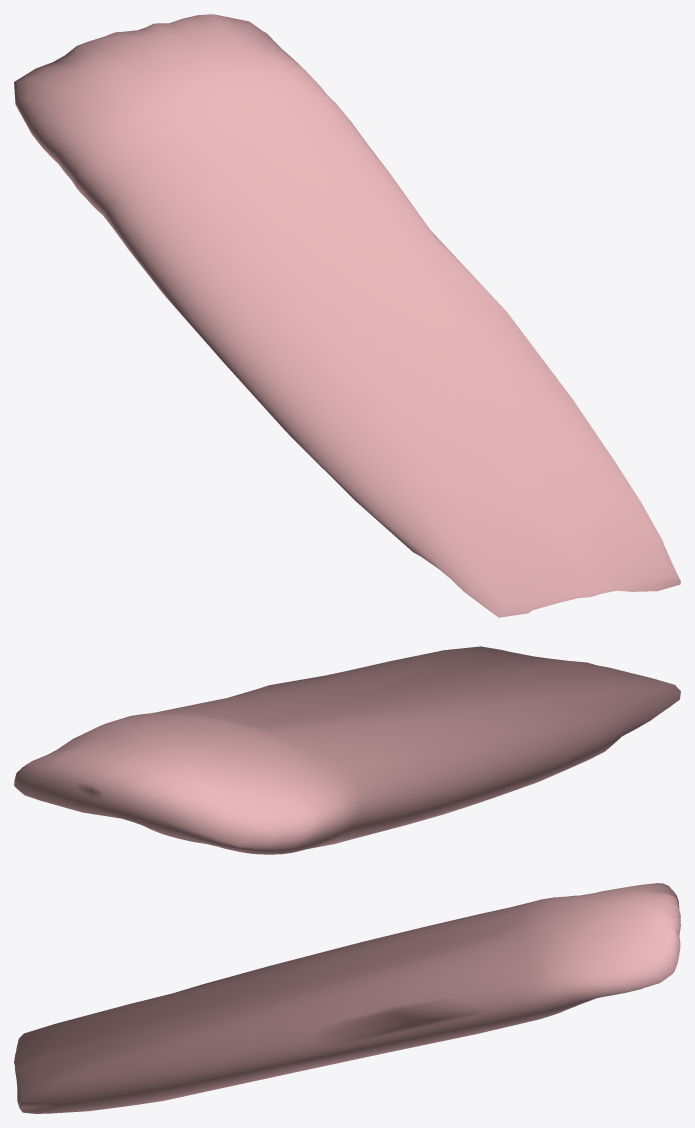
Rendered from Powder Liquid spread 2.fbx.
3 views of the same model, one above another, from view 1: azimuth 30°, elevation 25°; view 2: azimuth 150°, elevation 25°; view 3: azimuth 270°, elevation 25° (orthographic). The views are drawn at different scales.
Visible parts, largest first — view 1: Sphere; view 2: Sphere; view 3: Sphere.
Boxes of the visible parts, x1,y1,x2,y2 form: Sphere: (14, 14, 680, 617); Sphere: (14, 646, 680, 854); Sphere: (14, 883, 680, 1113).
Bounding box in the file's own units: 83.51 × 75.08 × 258.
